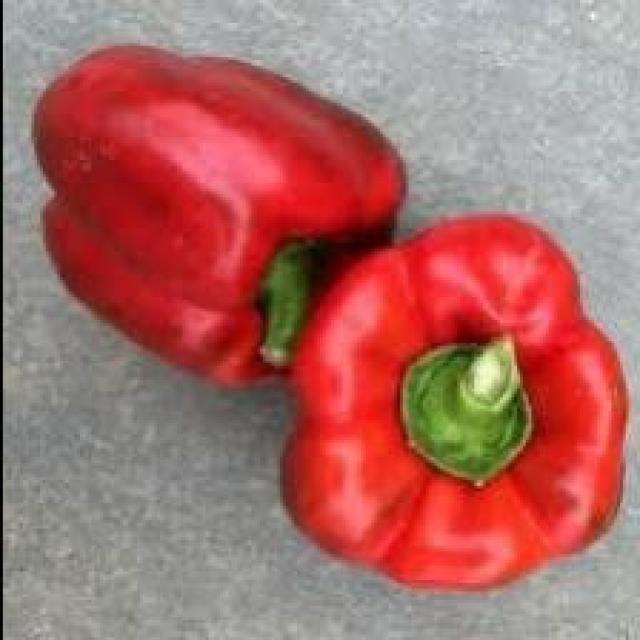Pepper: (280, 214, 629, 591), (31, 43, 380, 391)
